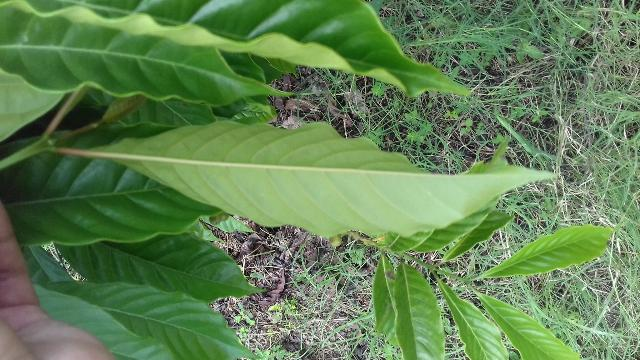healthy: (60, 118, 568, 241)
